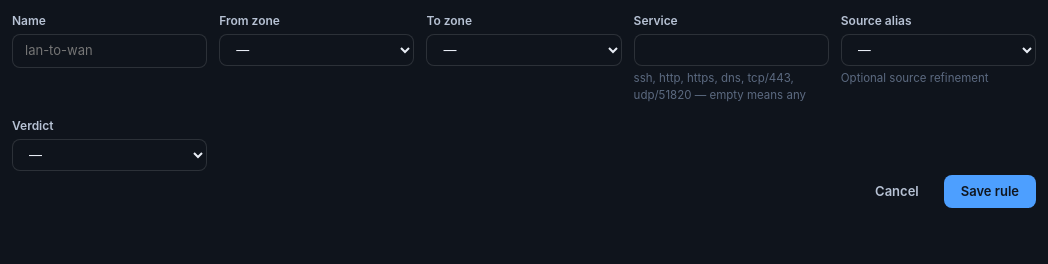
it: RuleEditorForm › shows validation errors on an empty submit and does not save
The image size is (1048, 264).
Click the button "Save rule". click: (990, 191)
box: [944,174,1036,208]
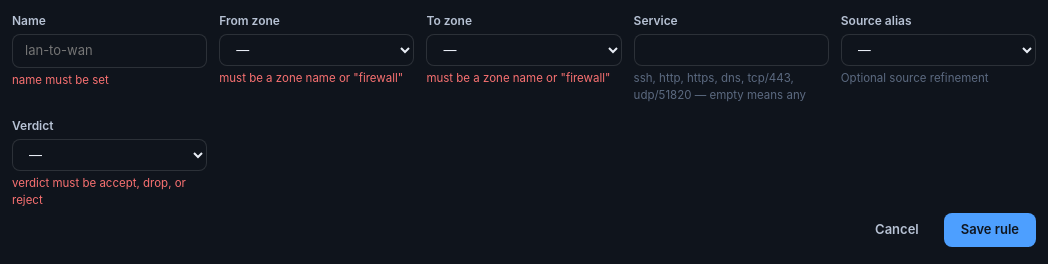
Expected: the text "name must be set" is shown, [12,72,109,86]
Expected: the text "verdict must be accept, drop, or reject" is shown, [12,174,207,209]
